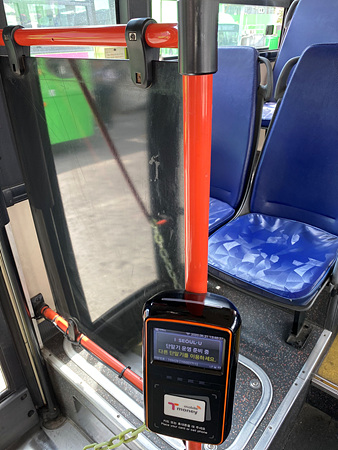terminal: (147, 313, 228, 439)
